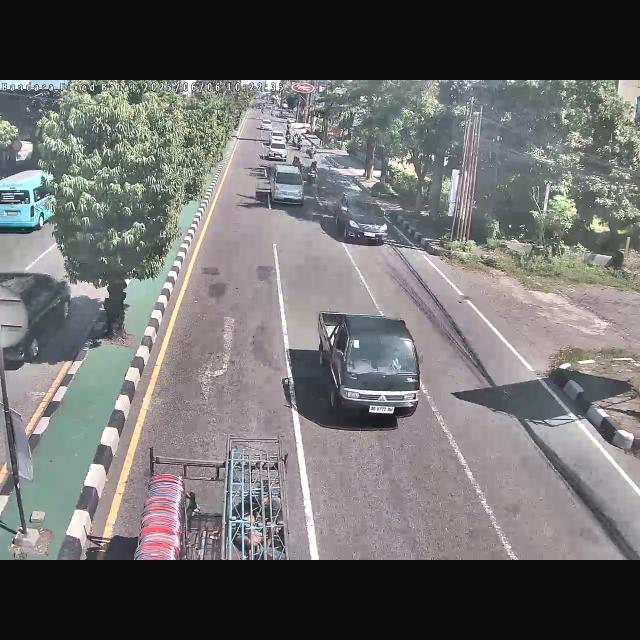Mobil: (120, 436, 298, 560), (317, 310, 421, 430), (333, 192, 393, 248), (270, 165, 306, 207)
